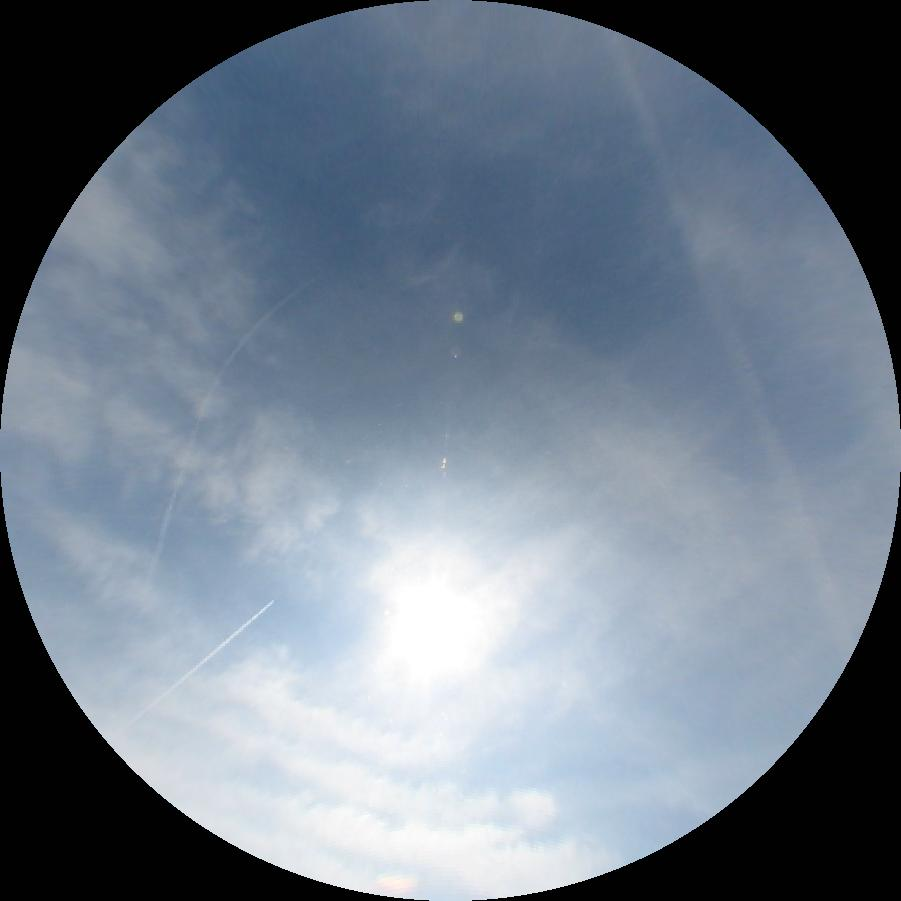contrail old: (604, 27, 860, 663)
contrail young: (142, 274, 316, 588), (138, 599, 274, 719)
parasite: (66, 512, 291, 524)
sun: (389, 574, 485, 682)
